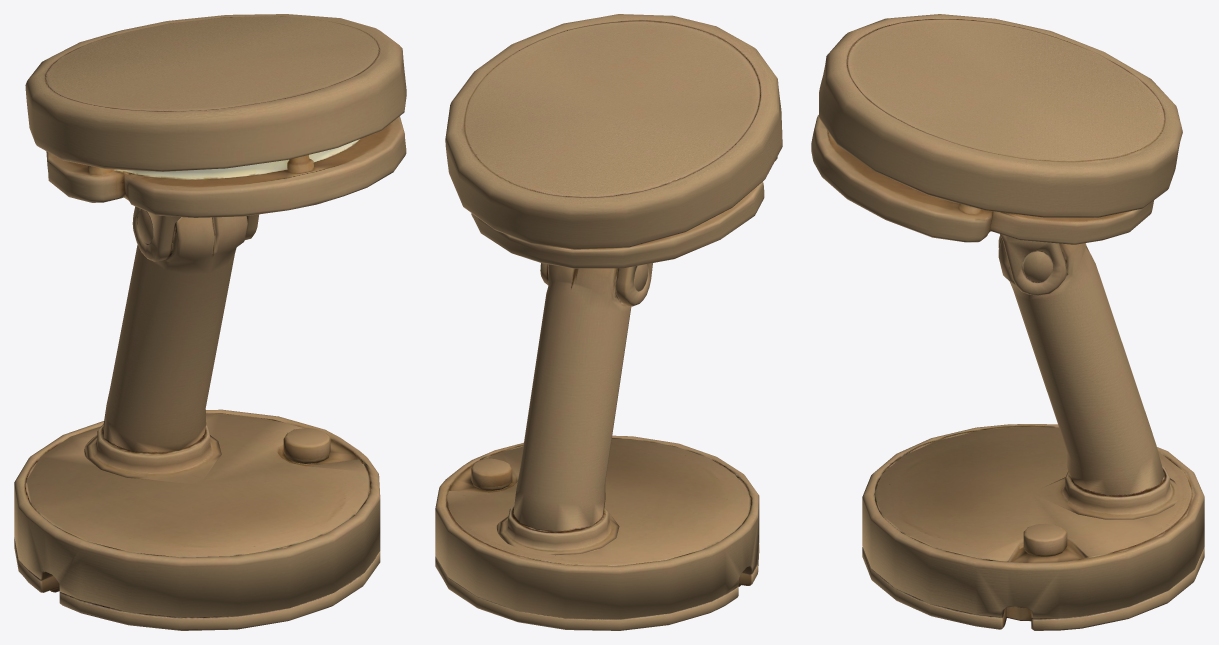
File: lamp_05.glb
The picture shows the model from 3 angles, left to right: view 1: azimuth 30°, elevation 25°; view 2: azimuth 150°, elevation 25°; view 3: azimuth 270°, elevation 25°; orthographic projection. The views are drawn at different scales.
Visible parts, largest first — view 1: tripo_node_12888a28-45a0-4e1c-8e91-9ee2f81234f3; view 2: tripo_node_12888a28-45a0-4e1c-8e91-9ee2f81234f3; view 3: tripo_node_12888a28-45a0-4e1c-8e91-9ee2f81234f3.
Boxes of the visible parts, x1=… form: tripo_node_12888a28-45a0-4e1c-8e91-9ee2f81234f3: x1=14, y1=14, x2=406, y2=630; tripo_node_12888a28-45a0-4e1c-8e91-9ee2f81234f3: x1=435, y1=14, x2=782, y2=630; tripo_node_12888a28-45a0-4e1c-8e91-9ee2f81234f3: x1=811, y1=14, x2=1204, y2=630.
Bounding box in the file's own units: 0.6193 × 0.9778 × 0.6922.
1 material, 1 textured.
